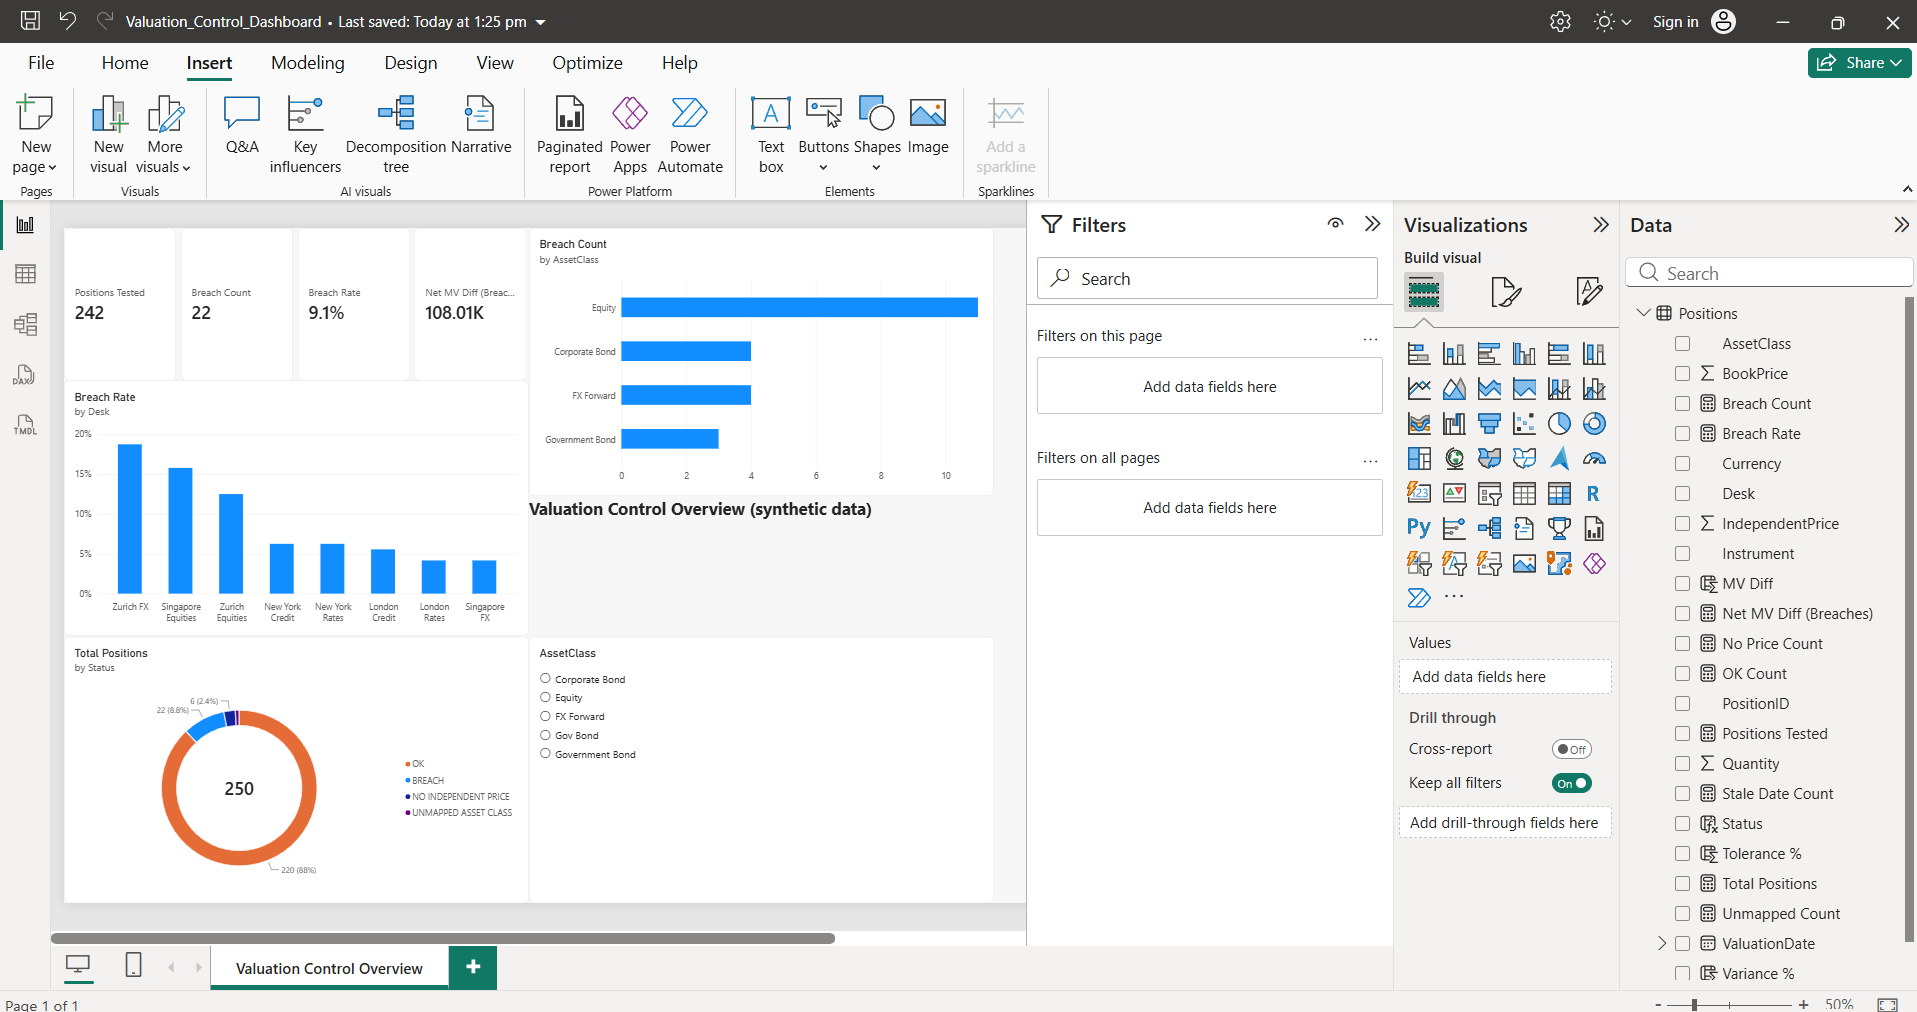

This screenshot's page, from the dashboard's own definition file:
{"tool":"powerbi","page":{"name":"Valuation Control Overview","canvas":[1920,1080],"ordinal":0},"visuals":[{"type":"cardVisual","fields":{"Data":["Positions.Positions Tested","Positions.Breach Count","Positions.Breach Rate","Positions.Net MV Diff (Breaches)"]},"box":[0,0,743.5,244.2],"z":0},{"type":"clusteredBarChart","fields":{"Category":["Positions.AssetClass"],"Y":["Positions.Breach Count"]},"box":[743.5,0,743.5,429],"z":1000},{"type":"clusteredColumnChart","fields":{"Category":["Positions.Desk"],"Y":["Positions.Breach Rate"]},"box":[0,244.2,743.5,409.2],"z":2000},{"type":"donutChart","fields":{"Category":["Positions.Status"],"Y":["Positions.Total Positions"]},"box":[0,654,744,426],"z":3000},{"type":"textbox","box":[744,429,744,224],"z":4000},{"type":"listSlicer","fields":{"Values":["Positions.AssetClass"]},"box":[744,654,744,426],"z":5000}]}

Visuals, with their boxes on the page's 1920x1080 design canvas (x1, y1, x2, y2). These are canvas units, not pixel positions in the 1917x1012 screenshot, which may show the page scaled, cropped or inside an application window:
cardVisual - Positions.Positions Tested x Positions.Breach Count: bbox=(0, 0, 744, 244)
clusteredBarChart - Positions.AssetClass x Positions.Breach Count: bbox=(744, 0, 1487, 429)
clusteredColumnChart - Positions.Desk x Positions.Breach Rate: bbox=(0, 244, 744, 653)
donutChart - Positions.Status x Positions.Total Positions: bbox=(0, 654, 744, 1080)
textbox: bbox=(744, 429, 1488, 653)
listSlicer - Positions.AssetClass: bbox=(744, 654, 1488, 1080)
